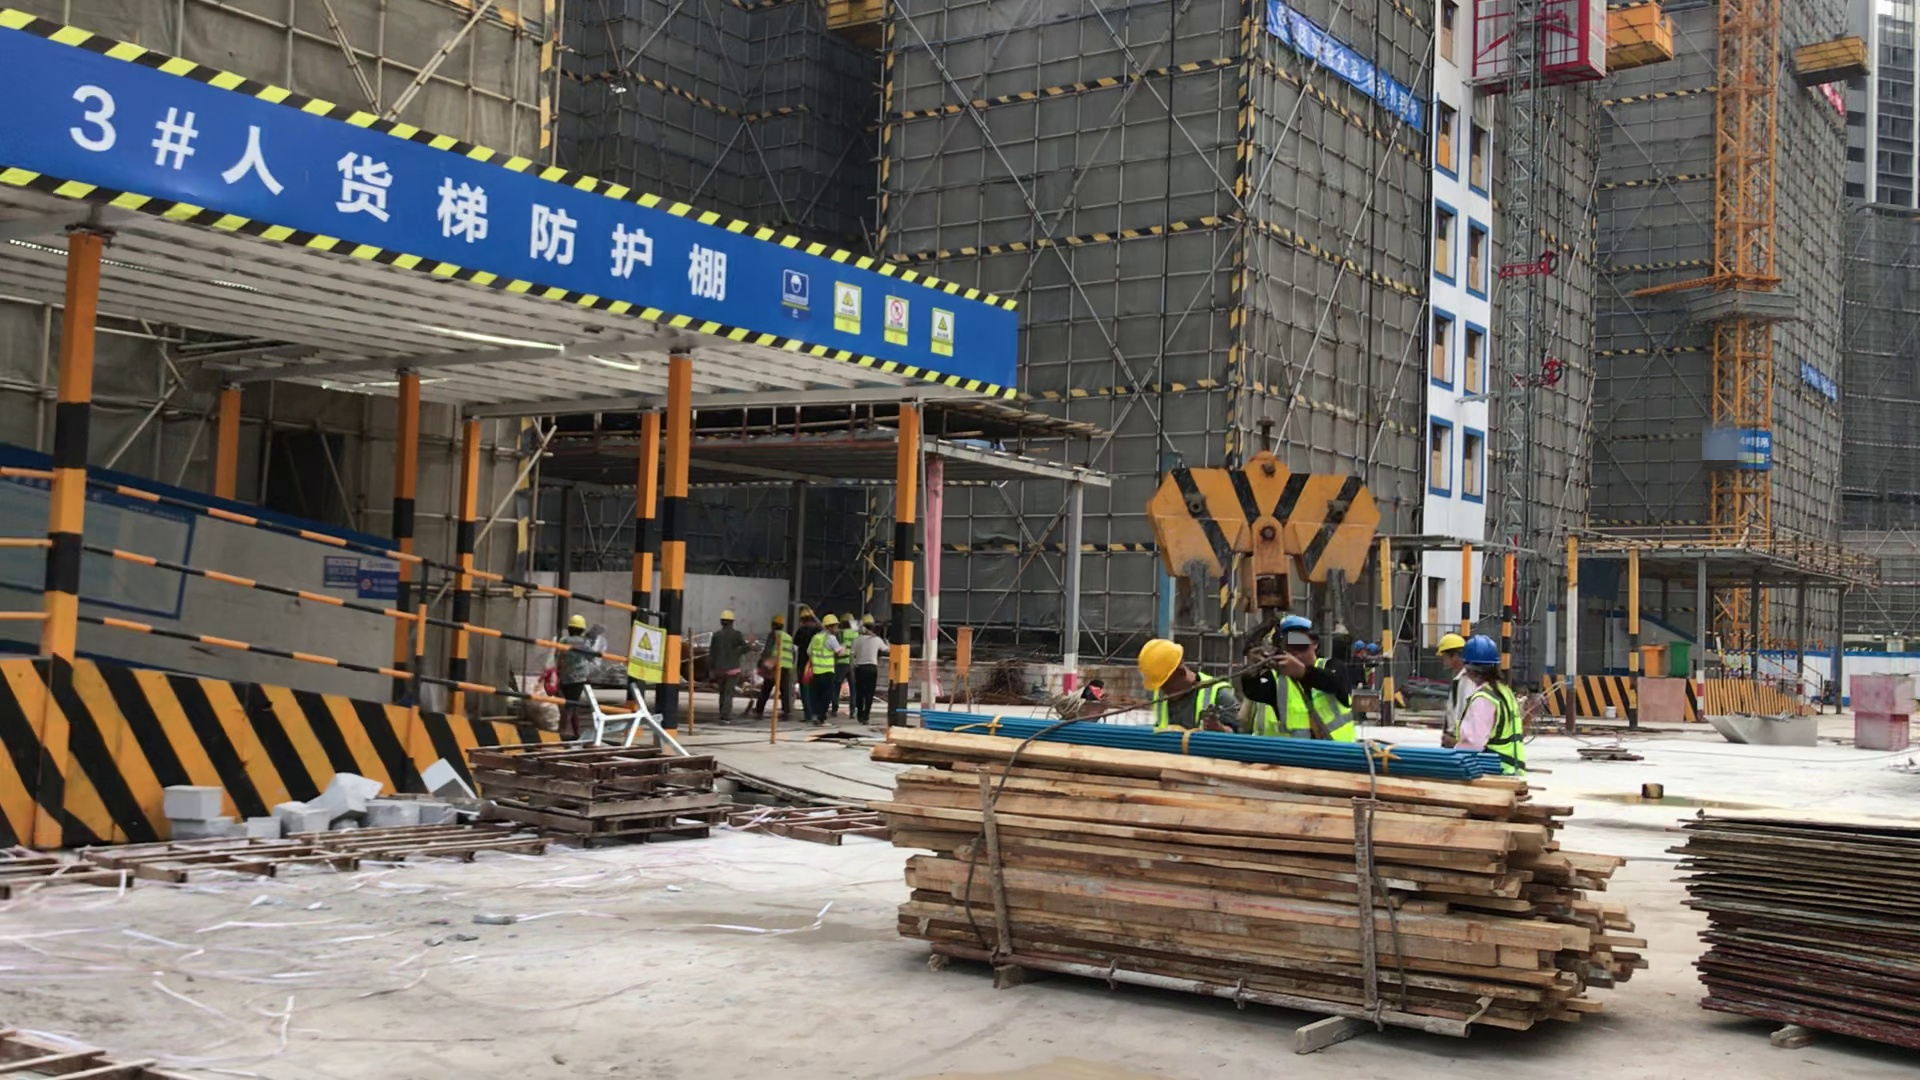helmet: (1137, 639, 1187, 689), (1467, 632, 1502, 666), (1275, 613, 1315, 632), (1433, 632, 1465, 654), (563, 612, 590, 631), (1353, 639, 1383, 656), (856, 612, 878, 625), (822, 612, 840, 626), (716, 609, 736, 622), (801, 606, 814, 618), (771, 615, 786, 625)
person: (1244, 612, 1360, 743), (1426, 628, 1529, 766), (1137, 636, 1238, 733), (794, 601, 844, 724), (706, 602, 752, 726), (837, 606, 883, 728), (552, 612, 594, 743), (756, 609, 798, 724)
vest: (1265, 663, 1353, 743), (1469, 683, 1524, 768), (1150, 678, 1229, 731), (809, 634, 835, 674), (769, 628, 792, 670), (840, 626, 858, 664)
